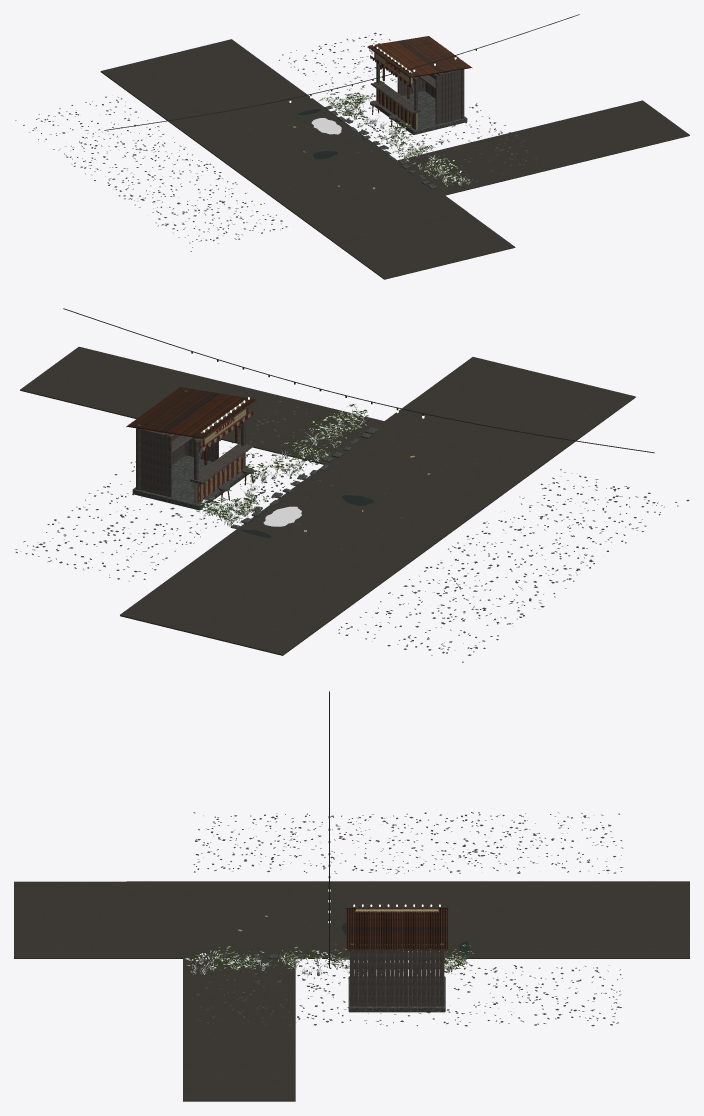
The model's file is SM_Env_Tile_m1_m1.fbx.
3 views of the same model, one above another, from view 1: azimuth 30°, elevation 25°; view 2: azimuth 150°, elevation 25°; view 3: azimuth 270°, elevation 25° (orthographic). The views are drawn at different scales.
Parts seen in each view (by area): view 1: SM_Env_Tile_m1_m1; view 2: SM_Env_Tile_m1_m1; view 3: SM_Env_Tile_m1_m1.
Part boxes in pixels (bbox=[...]): SM_Env_Tile_m1_m1: bbox=[15, 14, 689, 279]; SM_Env_Tile_m1_m1: bbox=[15, 308, 689, 662]; SM_Env_Tile_m1_m1: bbox=[14, 691, 689, 1101].
Size of what is drawn, in the model's own units: 3200 by 3000 by 518.
Materials: 22 (12 with a texture image).
